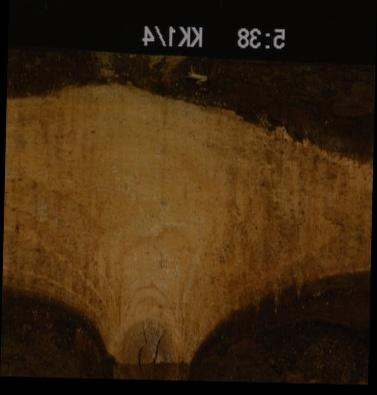sound_knot: (125, 320, 172, 379)
wave: (5, 47, 373, 161), (187, 265, 368, 382), (0, 283, 117, 377)
